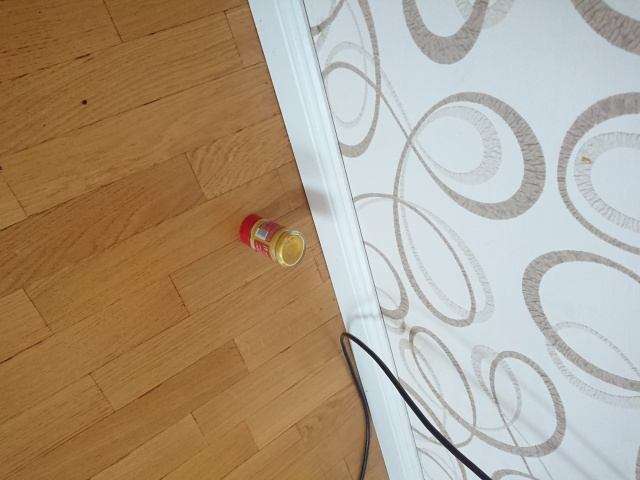Kotanyi Curry Spices Mix 70g: (236, 211, 308, 270)
